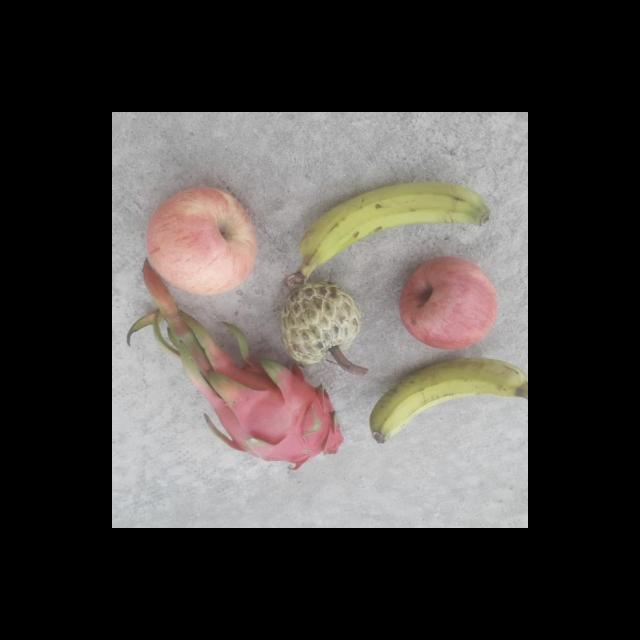Sakya fruit: (278, 282, 360, 370)
apple: (146, 188, 258, 294), (397, 260, 502, 349)
banana: (285, 178, 491, 290), (365, 356, 528, 446)
pitaya: (213, 368, 344, 468)
